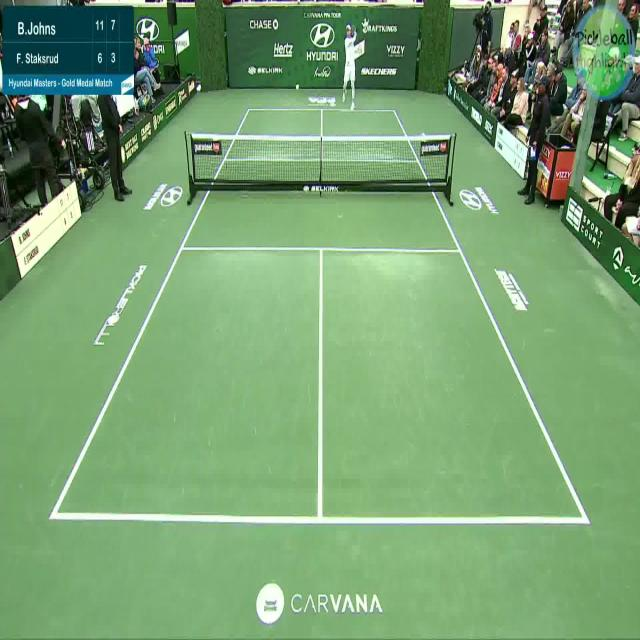Court: (51, 106, 589, 520)
ball: (293, 78, 302, 93)
